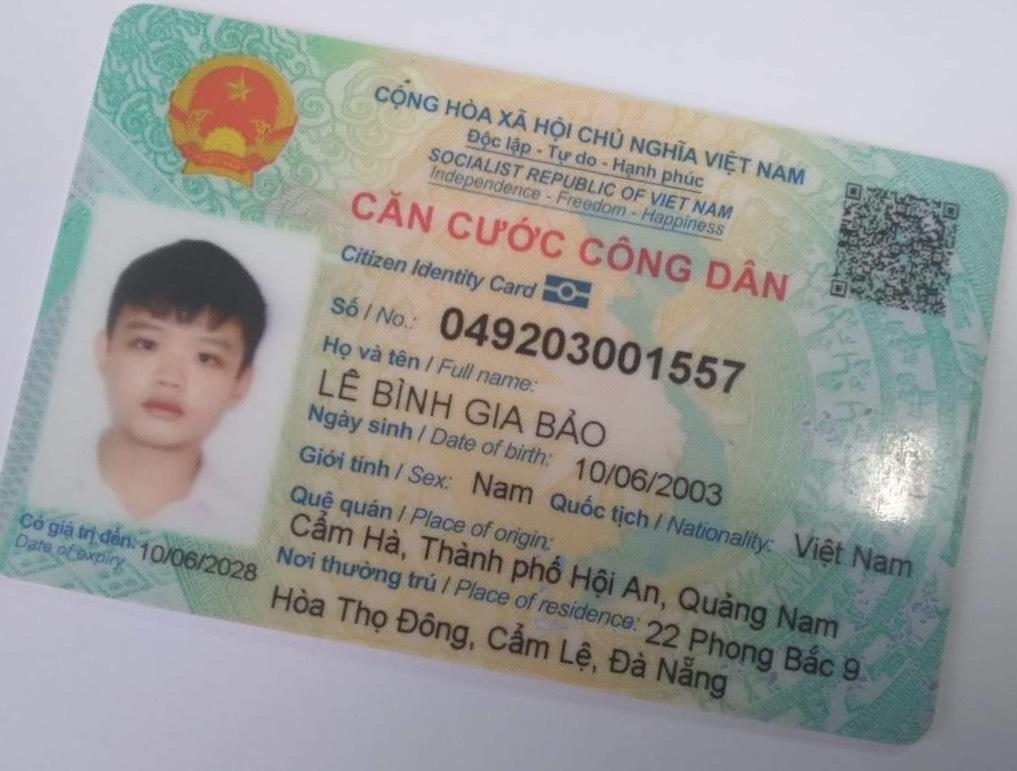ID: (422, 294, 768, 410)
birth: (568, 446, 744, 515)
name: (307, 357, 632, 455)
place: (283, 505, 863, 647)
residence: (262, 569, 740, 709), (632, 613, 887, 694)
